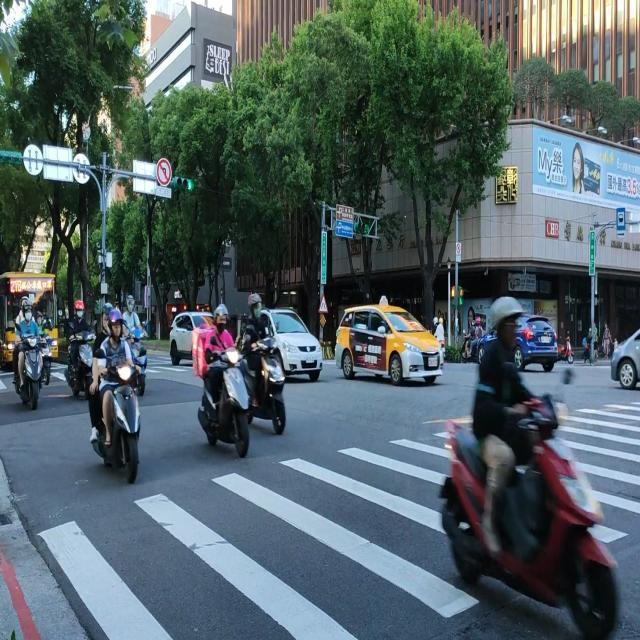Helmet: (475, 288, 532, 354), (105, 302, 129, 344), (206, 298, 233, 334), (244, 288, 267, 317), (70, 294, 90, 321), (19, 298, 37, 323)
bike: (439, 363, 625, 639), (88, 344, 149, 484), (195, 330, 252, 459), (235, 323, 290, 436), (12, 323, 54, 410), (65, 323, 93, 393)
rider: (470, 289, 548, 559), (91, 303, 135, 447), (194, 295, 237, 382), (240, 288, 274, 345), (65, 290, 88, 364), (15, 298, 44, 343)
